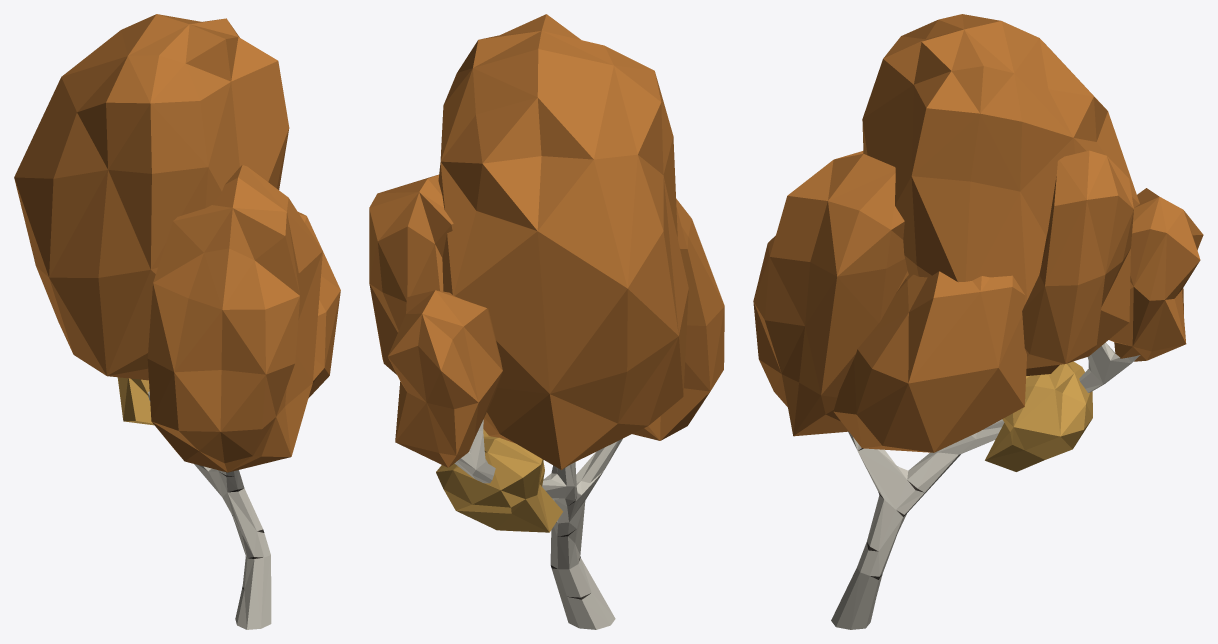
Rendered from BirchTree_Autumn_1.glb.
3 views of the same model, side by side, from view 1: azimuth 30°, elevation 25°; view 2: azimuth 150°, elevation 25°; view 3: azimuth 270°, elevation 25° (orthographic). The views are drawn at different scales.
Visible parts, largest first — view 1: BirchTree_Autumn_1; view 2: BirchTree_Autumn_1; view 3: BirchTree_Autumn_1.
Part boxes in pixels (x1,y1,x2,y2): BirchTree_Autumn_1: [14, 14, 340, 629]; BirchTree_Autumn_1: [369, 14, 724, 629]; BirchTree_Autumn_1: [753, 14, 1203, 629].
Bounding box in the file's own units: 1.7 × 3.57 × 2.48.
